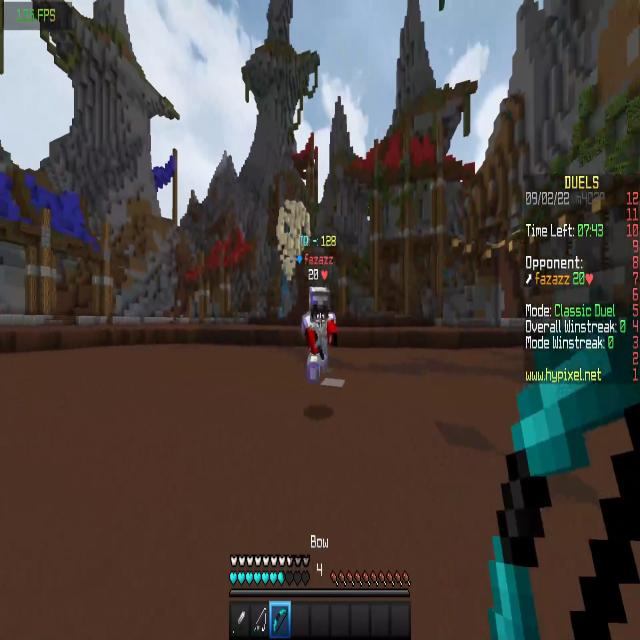Player: (296, 275, 346, 399)
